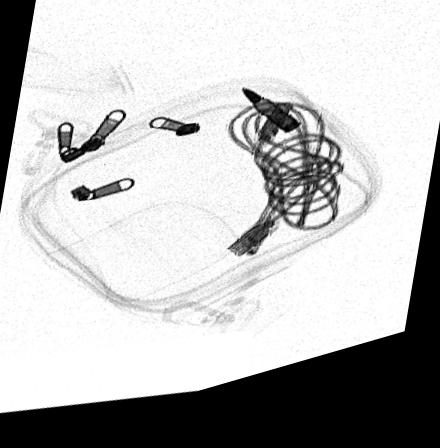Bullet: (238, 100, 301, 149)
